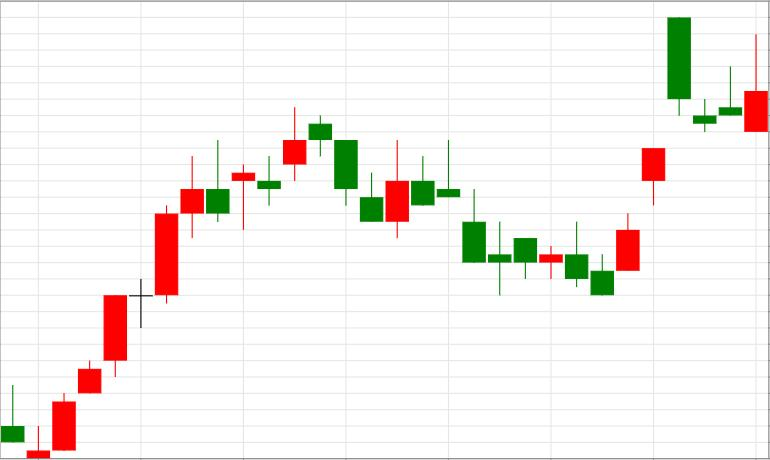bullish_engulfing_rise: (309, 114, 409, 239)
evening_star_fall: (231, 107, 358, 231)
inverse_hammer_rise: (437, 139, 588, 296)
shooting_star_fall: (27, 140, 229, 459)
